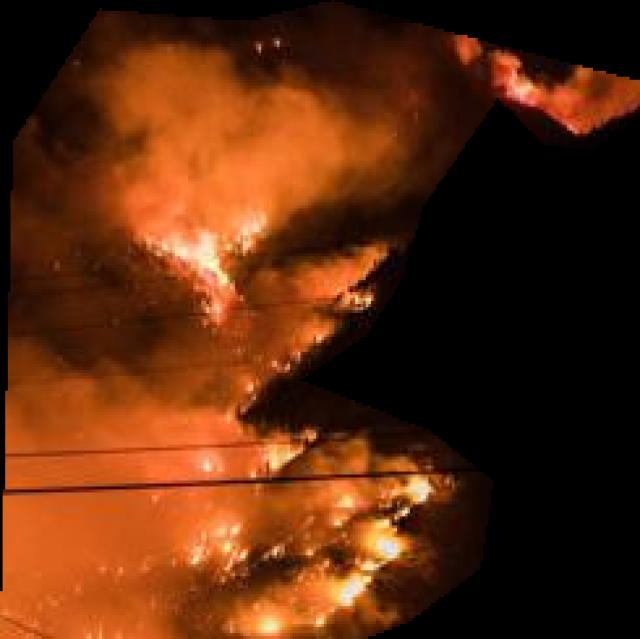fire: (0, 0, 640, 639)
